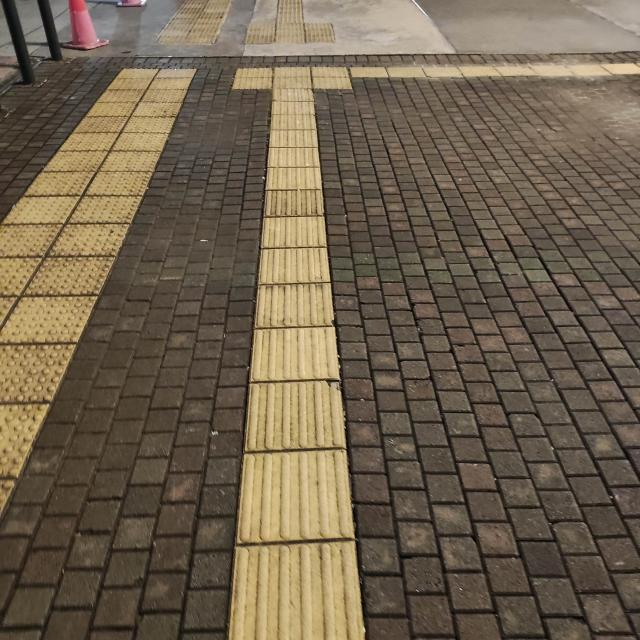kanan: (249, 57, 410, 106)
